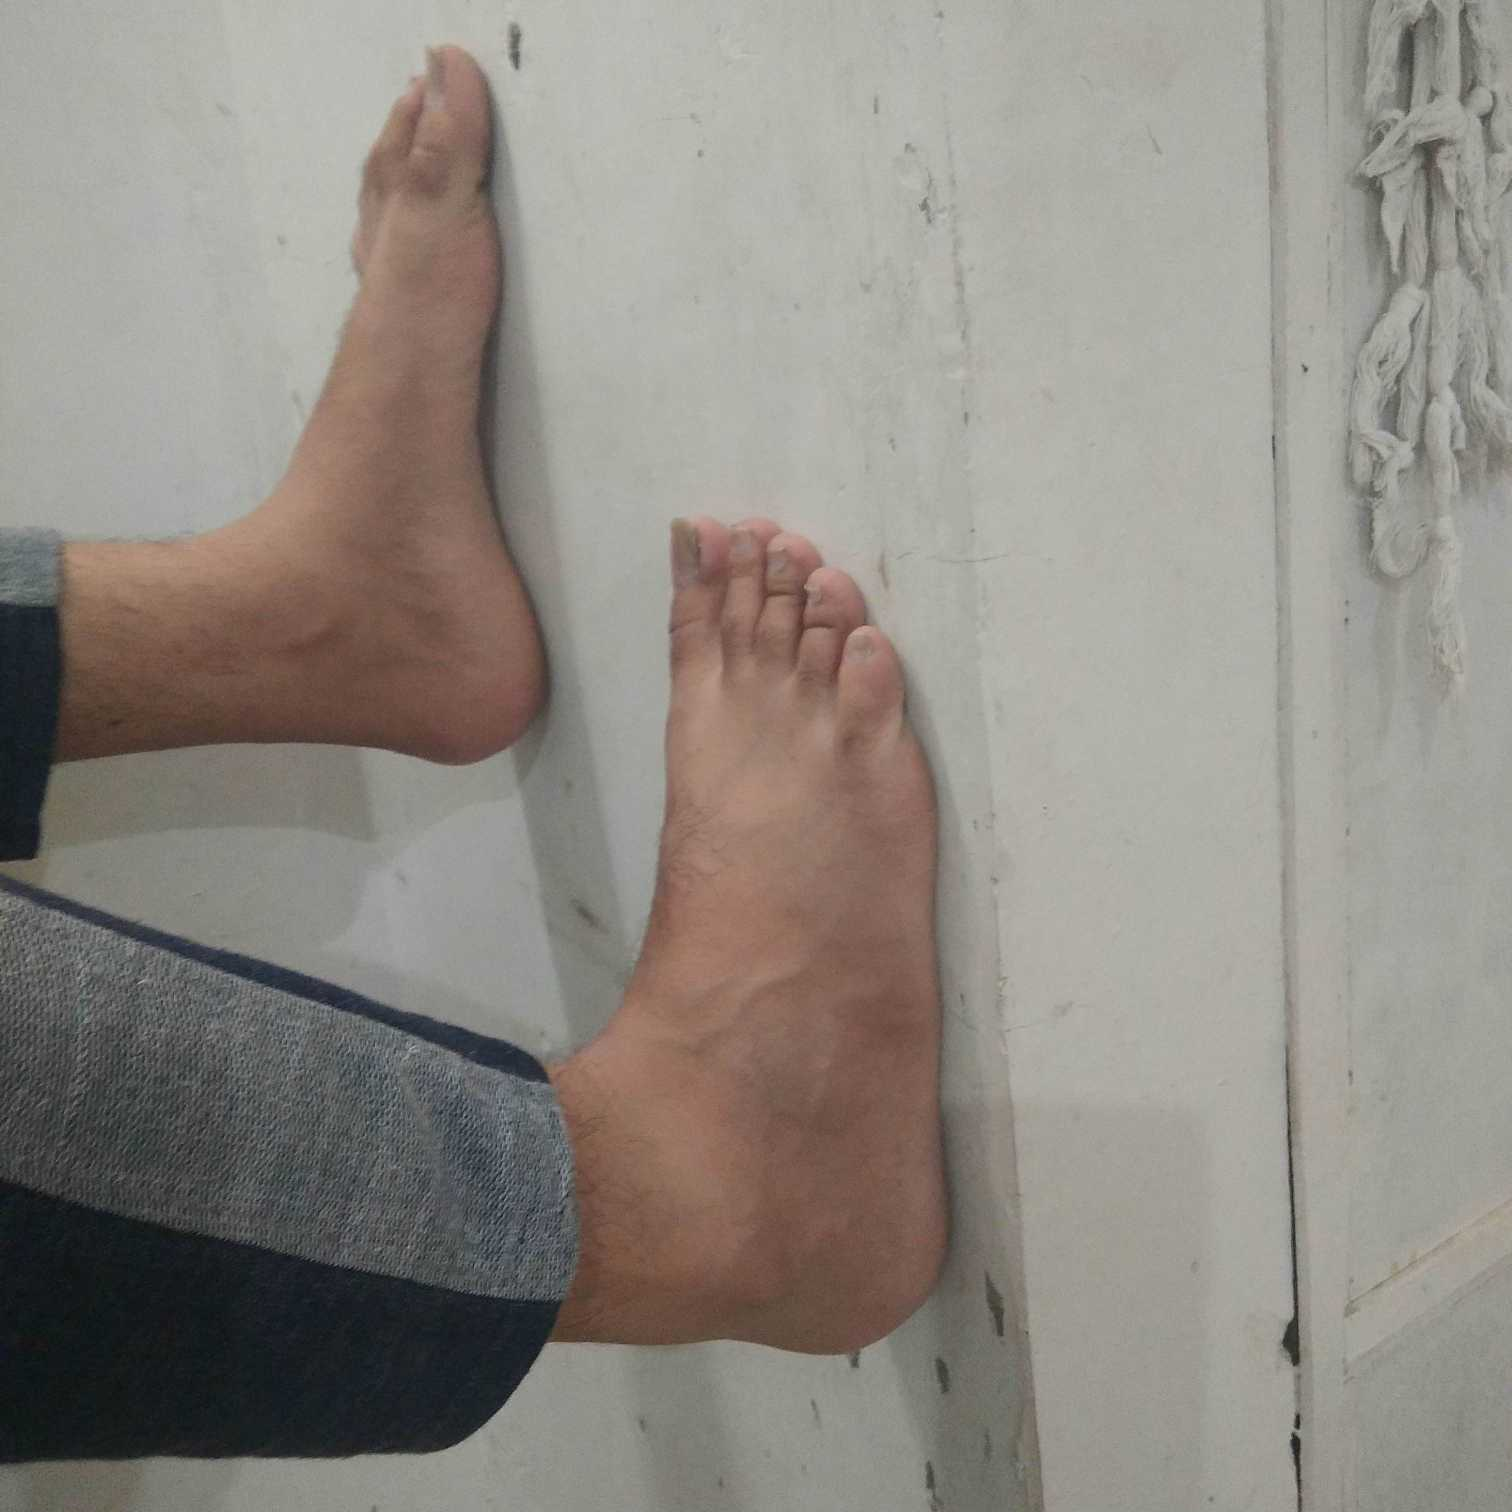foot: (629, 515, 957, 1360), (281, 36, 554, 764)
